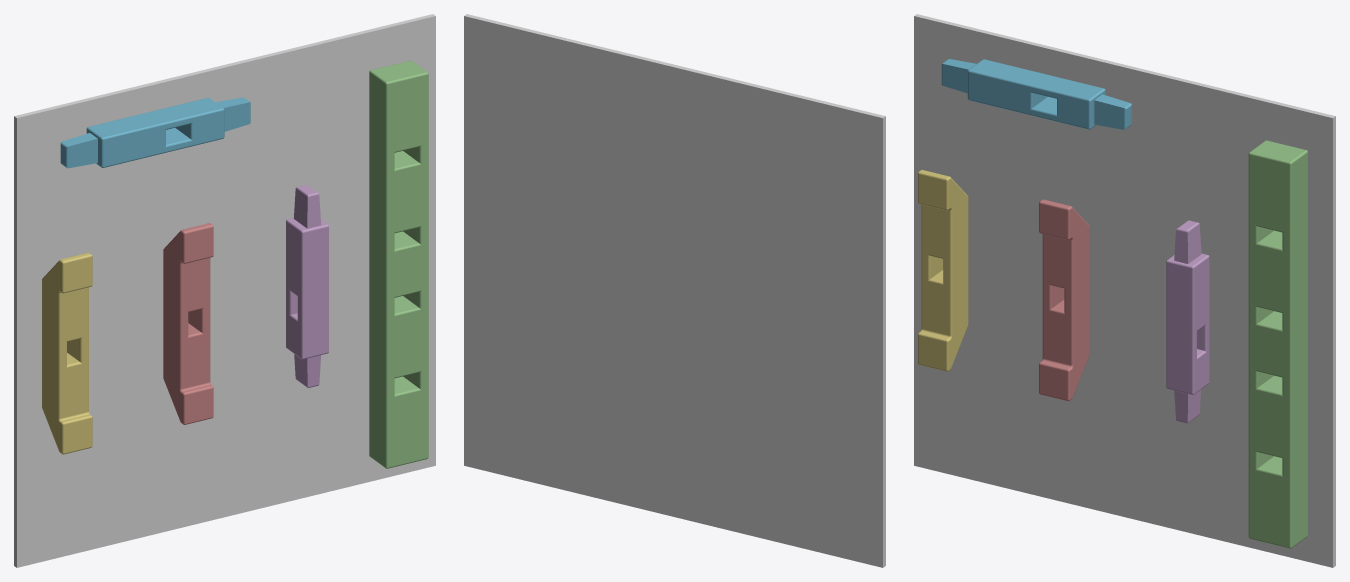
The model's file is pickup_layout.glb.
3 renders of one model, left to right at view 1: azimuth 30°, elevation 25°; view 2: azimuth 150°, elevation 25°; view 3: azimuth 330°, elevation 25°, orthographic.
Parts seen in each view (by area): view 1: world, 6.obj, 0.obj, 1.obj, 2.obj, 3.obj; view 2: world; view 3: world, 6.obj, 1.obj, 0.obj, 2.obj, 3.obj.
Boxes of the visible parts, x1,y1,x2,y2 form: world: (14, 14, 435, 567); 6.obj: (369, 60, 428, 468); 0.obj: (163, 223, 213, 424); 1.obj: (42, 252, 92, 454); 2.obj: (60, 97, 250, 168); 3.obj: (286, 185, 328, 387); world: (464, 14, 885, 567); world: (914, 14, 1335, 567); 6.obj: (1248, 140, 1307, 548); 1.obj: (917, 170, 968, 371); 0.obj: (1039, 199, 1089, 401); 2.obj: (941, 59, 1131, 129); 3.obj: (1166, 220, 1209, 423).
Bounding box in the file's own units: 17.27 × 17.72 × 1.72.
